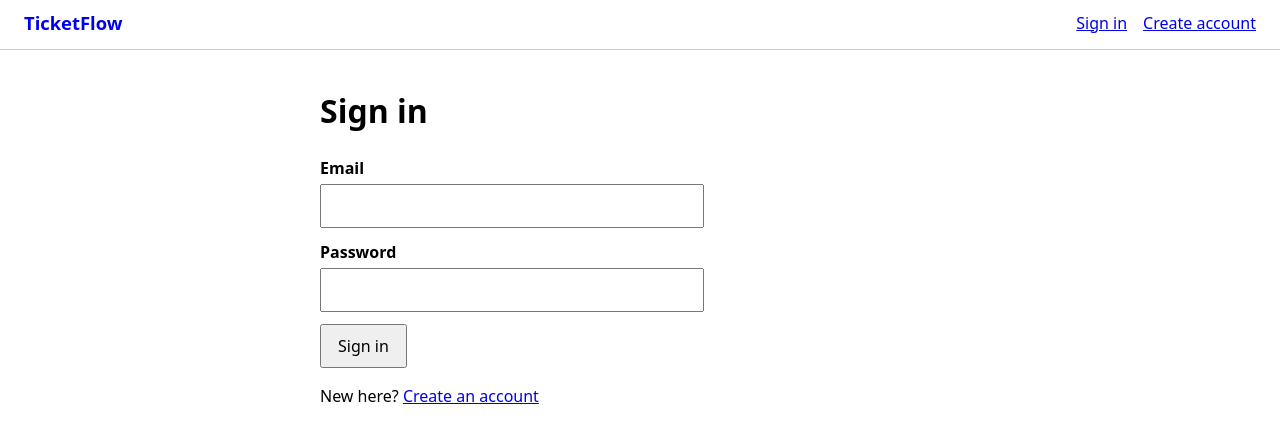
Test: the sign in page › keeps the button off while the request runs
Expected: the heading "Sign in" is shown, [320,89,428,132]
Type "ada@example.com" into the field labelled "Email" at (512, 206), box [320,184,704,228]
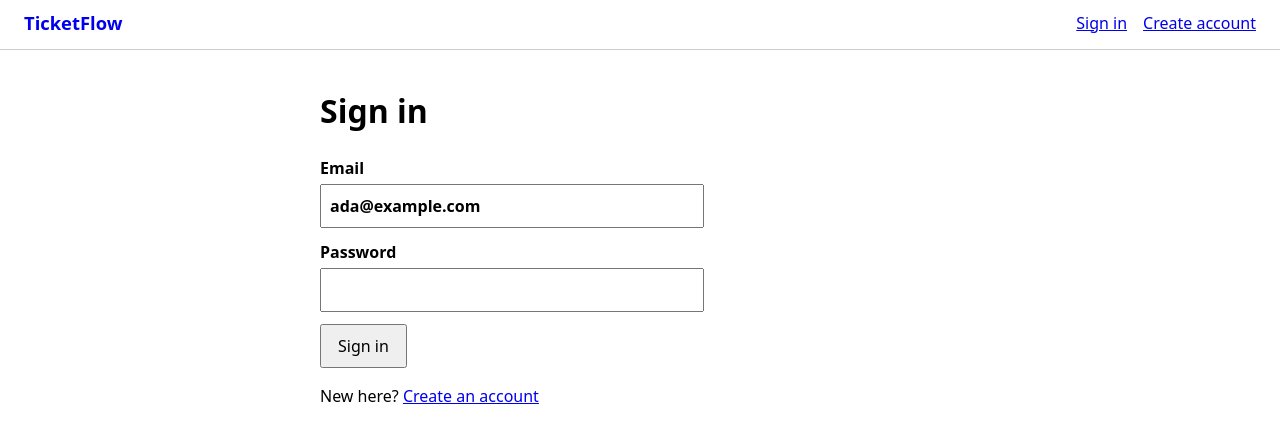
Type "a long password" into the password field labelled "Password" at (512, 290), box [320,268,704,312]
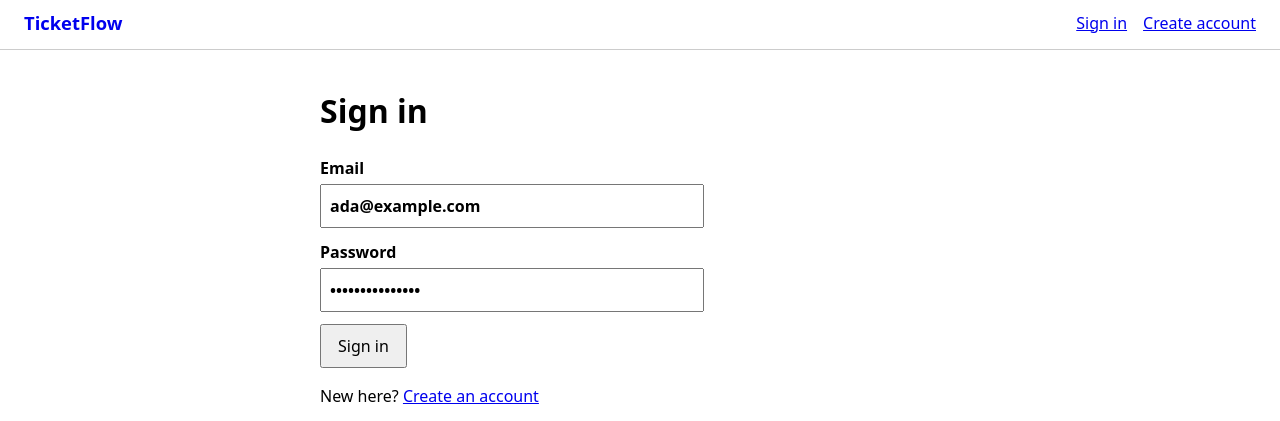
Click the button "Sign in" at (363, 346), box [320,324,407,368]
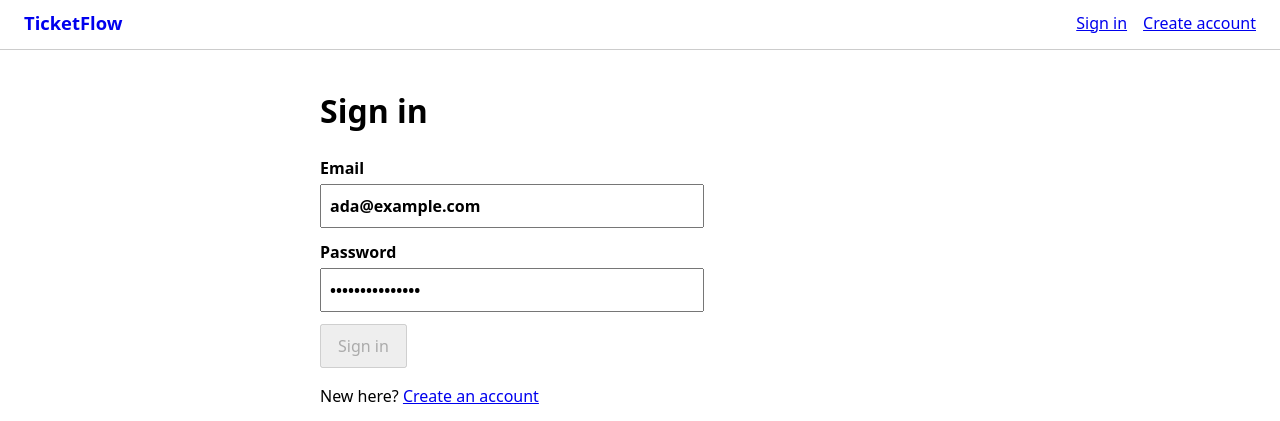
Now the button "Sign in" is disabled, box [320,324,407,368]
